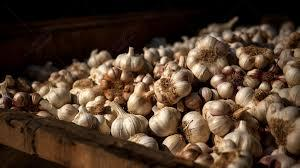garlic: (66, 37, 299, 159)
